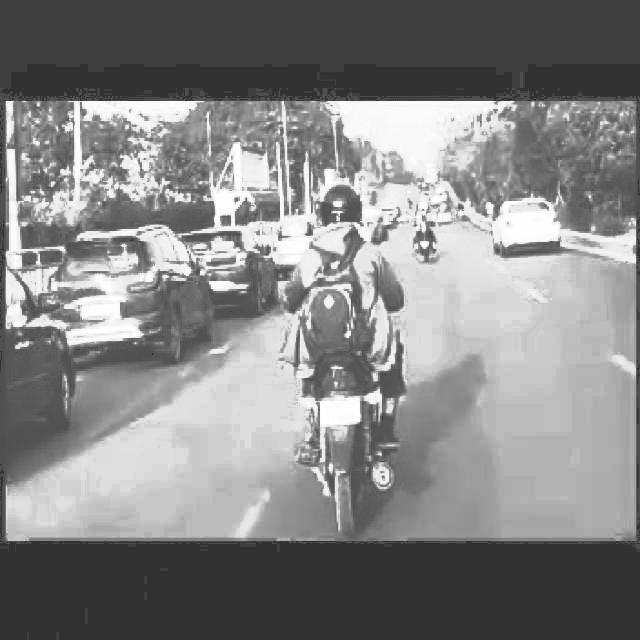Car: (58, 220, 194, 358), (0, 263, 78, 445), (191, 222, 280, 318), (489, 182, 571, 262), (274, 209, 322, 271)
